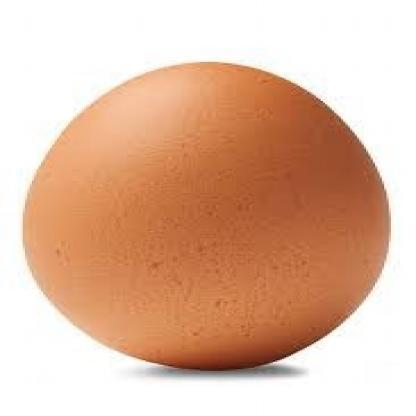egg: (18, 58, 394, 372)
